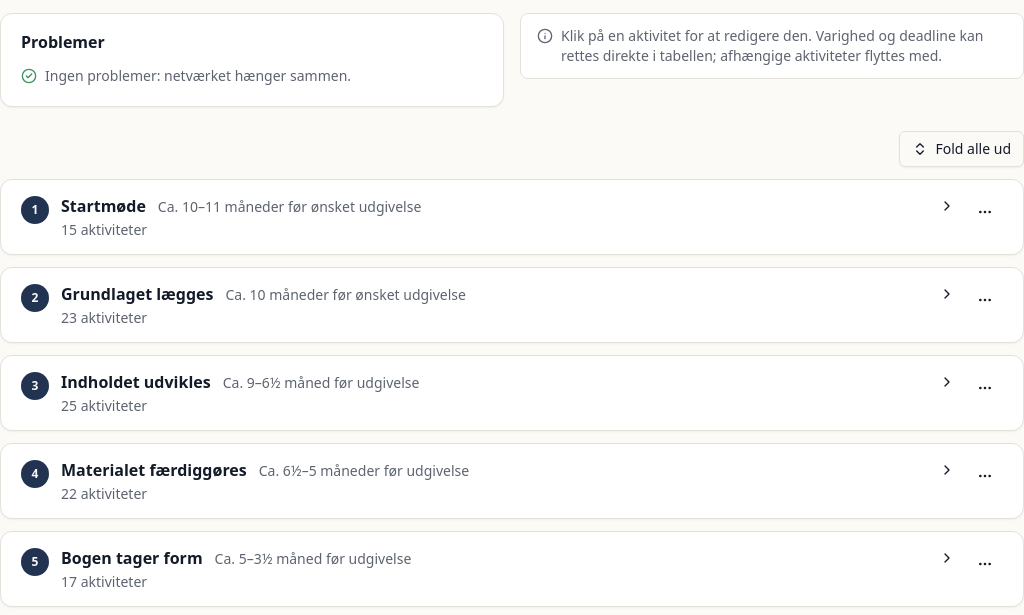
TemplateEditor › changes a duration inline, moves the neighbours and undoes it
The width and height of the screenshot is (1024, 615).
Click the button that starts with "Indholdet udvikles": click(136, 382) 21,370 -> 955,416
(page scrolled)
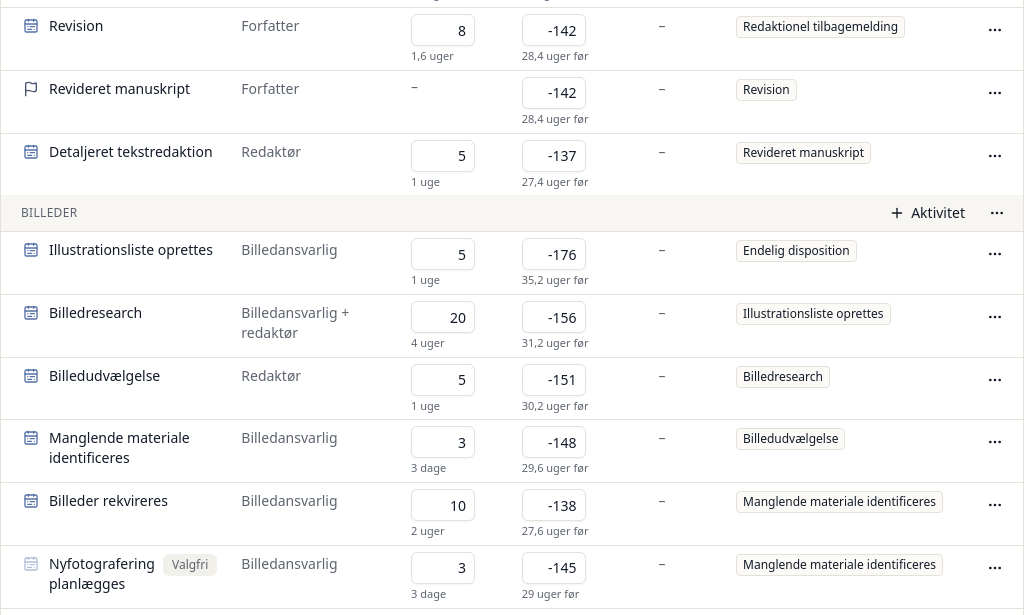
Replace the text in the field named "Varighed (arbejdsdage): Billedresearch" with "40": (443, 317) 411,301 -> 475,333
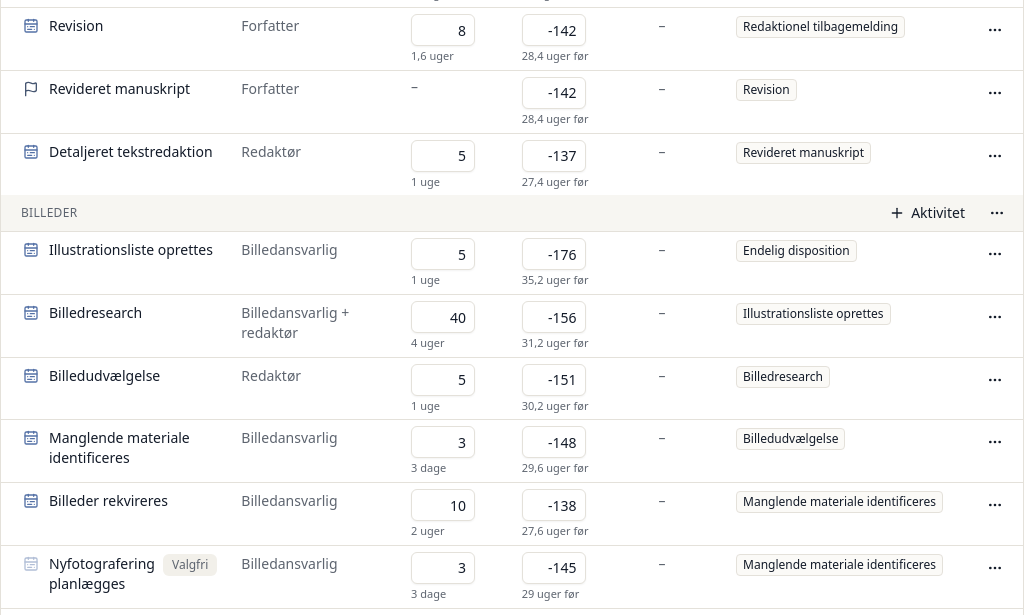
Leave the field named "Varighed (arbejdsdage): Billedresearch", box 411,301 -> 475,333
(page scrolled)
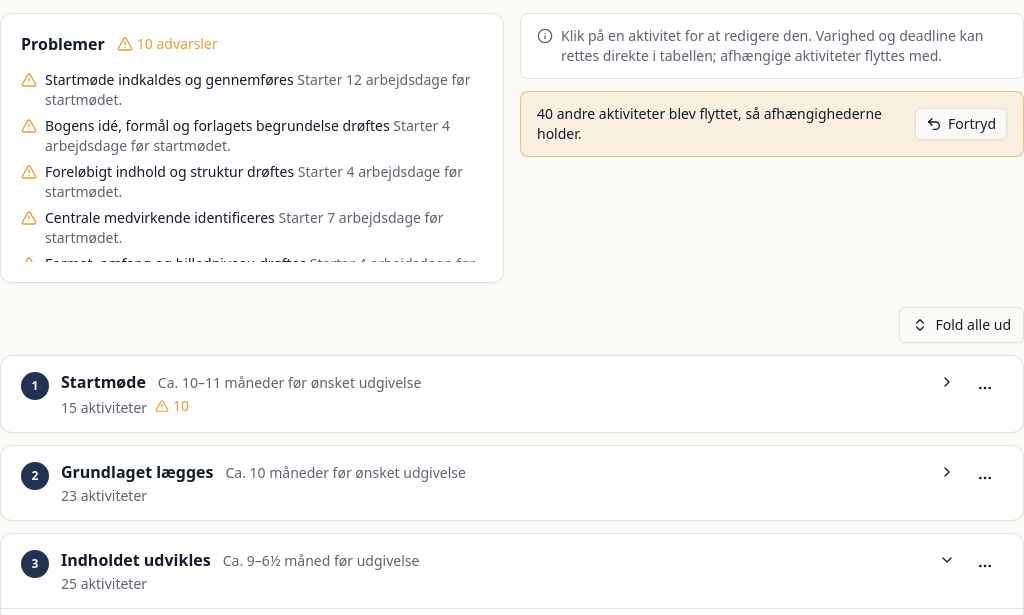
Check: the message shows "andre aktiviteter blev flyttet", box 537,104 -> 882,143
Click the 2nd button "Fortryd": click(961, 124) 915,108 -> 1007,140
(page scrolled)
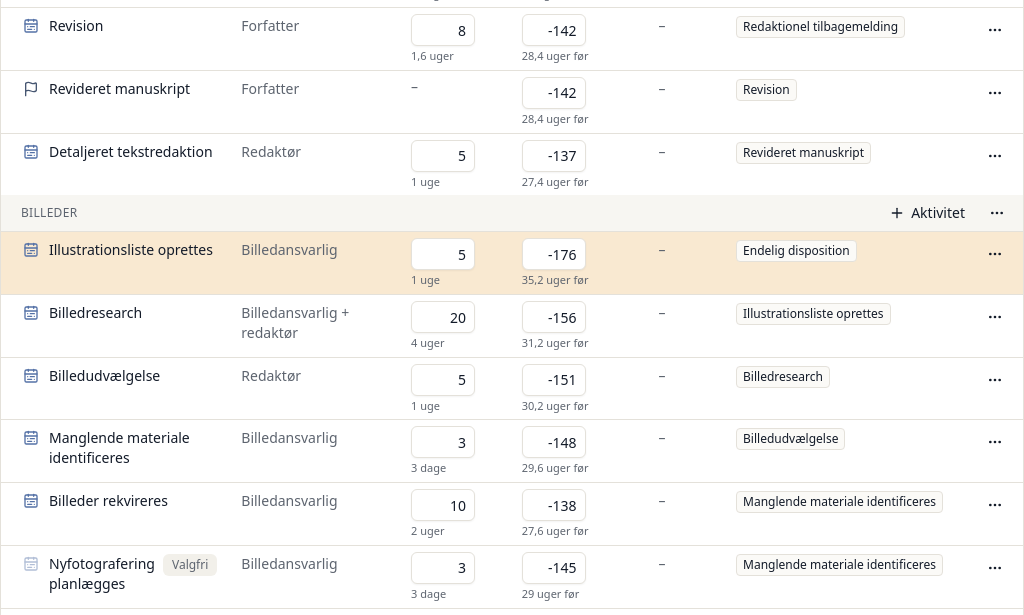
Check: the field named "Varighed (arbejdsdage): Billedresearch" holds "20", box 411,301 -> 475,333
